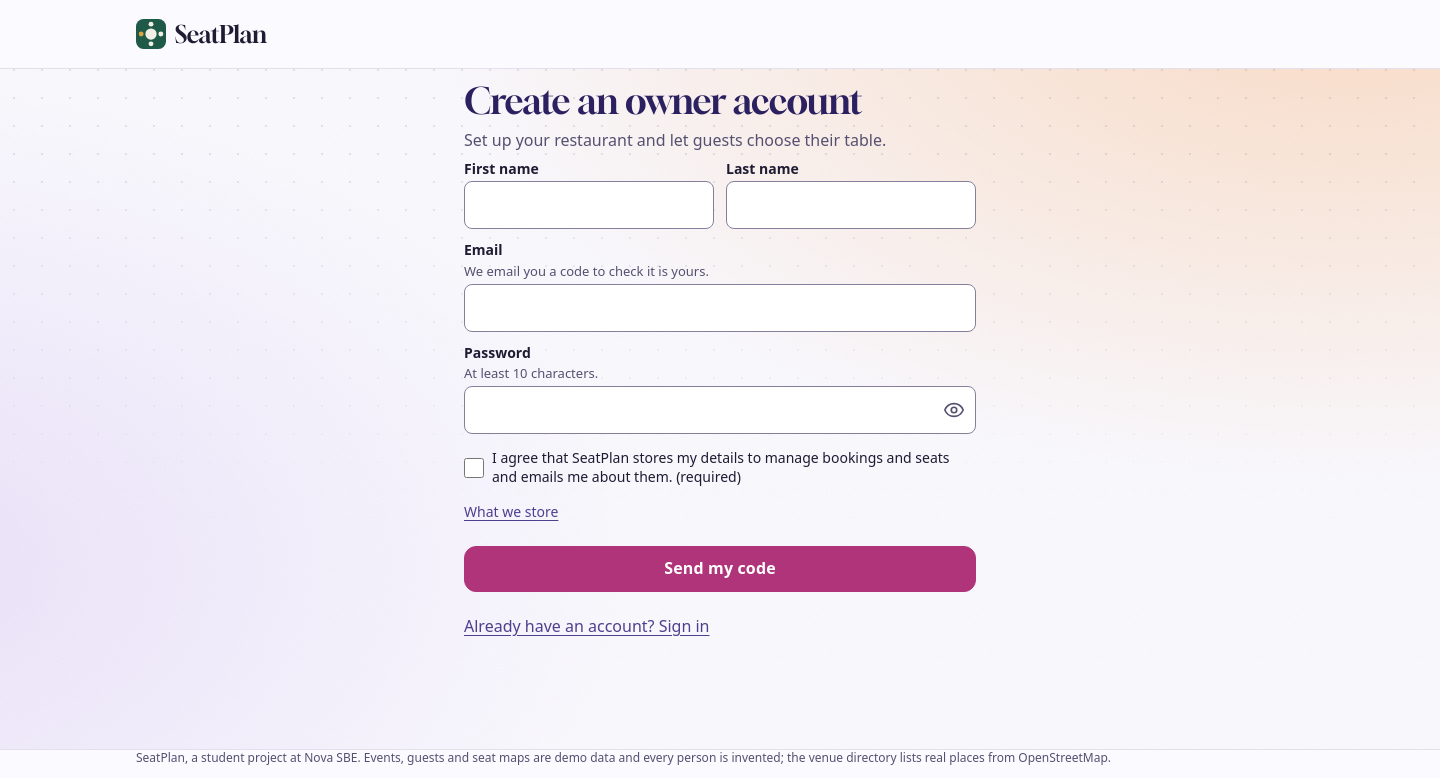
Scenario: says what is wrong beside each field, summarises it, and keeps the rest when one is fixed
Later steps or results of the test are not shown.
Click the button "Send my code" at x=720, y=569, box left=464, top=546, right=976, bottom=592
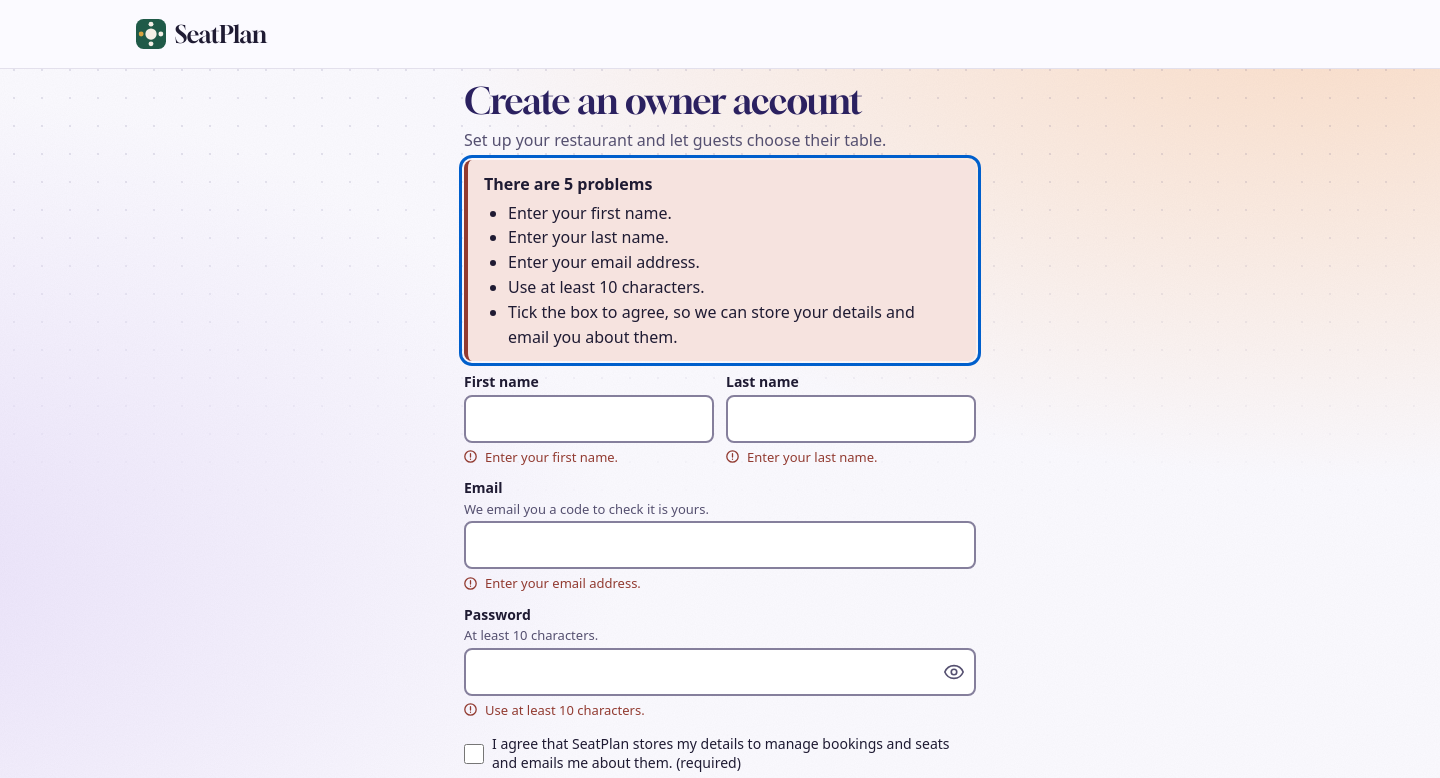
expect the number of list items "Enter your first name." is 2: met, box left=508, top=202, right=672, bottom=224; left=464, top=448, right=618, bottom=466
expect the number of list items "Enter your email address." is 2: met, box left=508, top=251, right=700, bottom=273; left=464, top=574, right=641, bottom=592
expect the text "There are 5 problems" is shown: met, box left=484, top=173, right=652, bottom=195
